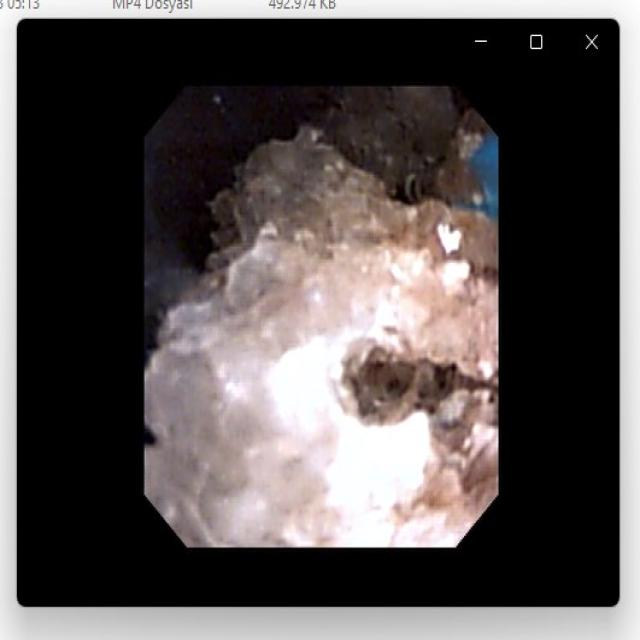stone: (147, 97, 493, 540)
